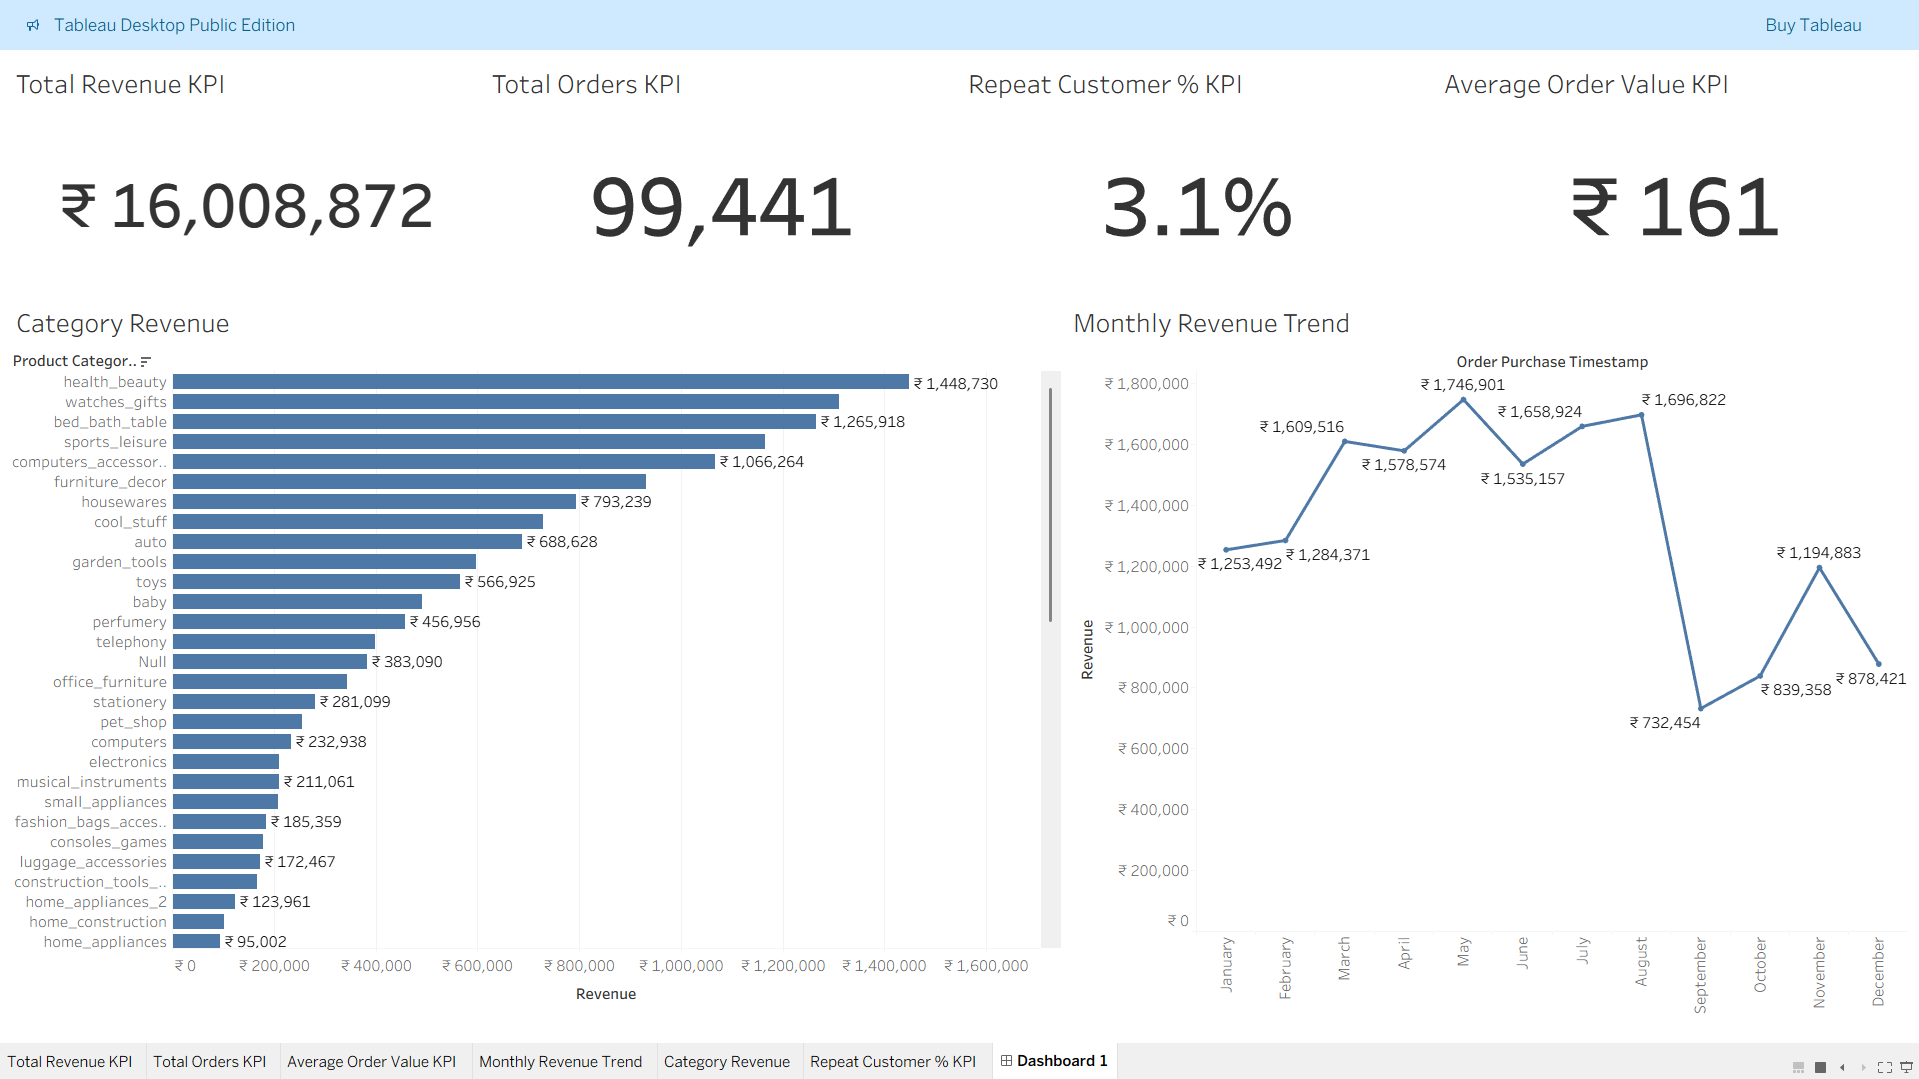

What the dashboard file says about the page in this screenshot:
{"tool":"tableau","page":{"name":"Dashboard 1","canvas":[1000,1000],"units":"permille","ordinal":0},"visuals":[{"type":"worksheet","title":"Total Revenue KPI","mark":"Automatic","box":[4.8,10,247.6,239.7]},{"type":"worksheet","title":"Total Orders KPI","mark":"Automatic","box":[252.4,10,247.6,239.7]},{"type":"worksheet","title":"Repeat Customer % KPI","mark":"Automatic","box":[500,10,247.6,239.7]},{"type":"worksheet","title":"Average Order Value KPI","mark":"Automatic","box":[747.6,10,247.6,239.7]},{"type":"worksheet","title":"Category Revenue","mark":"Automatic","rows":["product_category_name_english"],"cols":["Calculation_1245510218280960"],"box":[4.8,249.7,479.2,740.3]},{"type":"worksheet","title":"Monthly Revenue Trend","mark":"Line","rows":["Calculation_1245510218280960"],"cols":["order_purchase_timestamp"],"box":[484,249.7,511.2,740.3]}]}

Visuals, with their boxes on the dashboard's canvas, which has no fixed pixel size, in thousandths of its width and height (x1, y1, x2, y2). These are canvas units, not pixel positions in the 1919x1079 screenshot, which may show the page scaled, cropped or inside an application window:
"Total Revenue KPI" worksheet: [5,10,252,250]
"Total Orders KPI" worksheet: [252,10,500,250]
"Repeat Customer % KPI" worksheet: [500,10,748,250]
"Average Order Value KPI" worksheet: [748,10,995,250]
"Category Revenue" worksheet: [5,250,484,990]
"Monthly Revenue Trend" worksheet (Line marks): [484,250,995,990]
